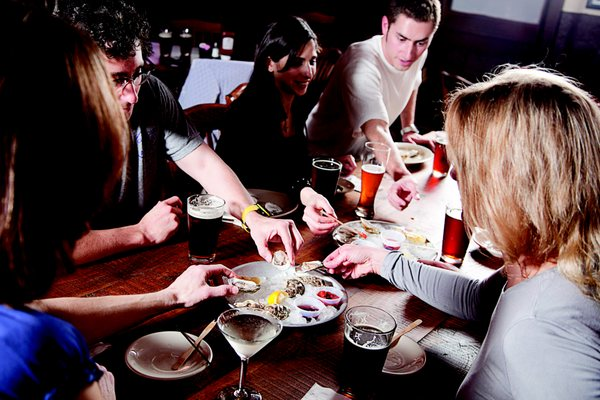pizza: (338, 305, 397, 397), (187, 193, 226, 262), (358, 153, 386, 221), (310, 157, 342, 201), (382, 229, 405, 250)
